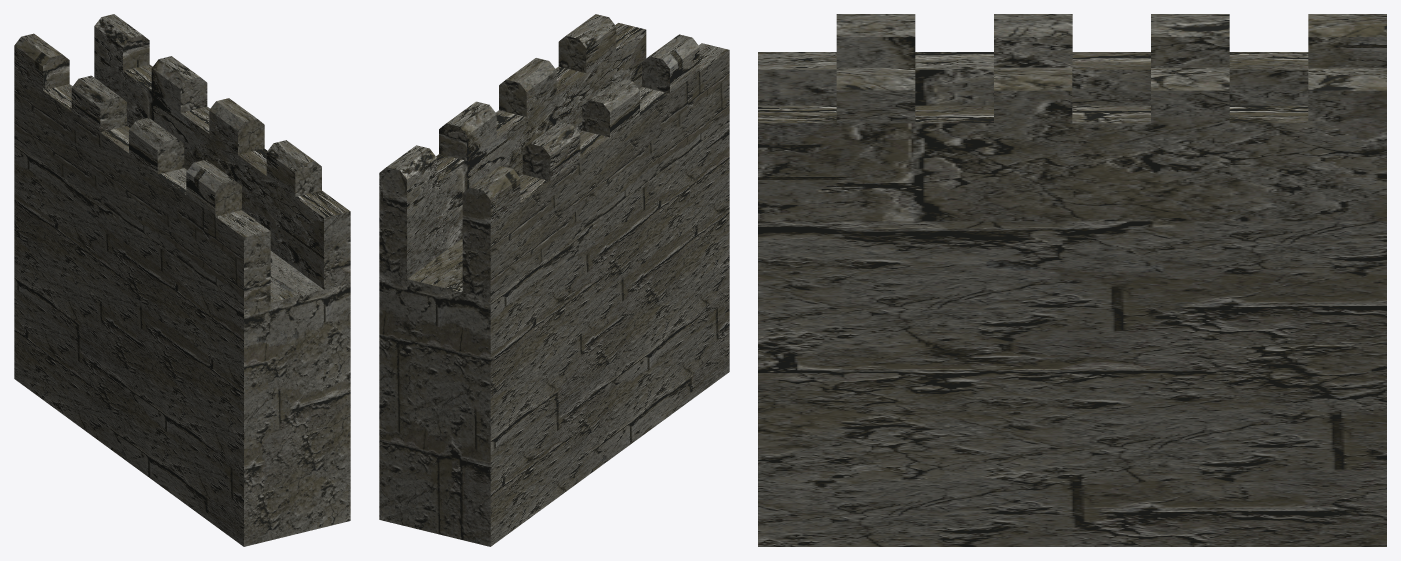
Rendered from CastleWall.fbx.
3 renders of one model, left to right at view 1: azimuth 30°, elevation 25°; view 2: azimuth 150°, elevation 25°; view 3: azimuth 270°, elevation 25°, orthographic. The views are drawn at different scales.
Visible parts, largest first — view 1: Cube.001; view 2: Cube.001; view 3: Cube.001.
Boxes of the visible parts, <box> form: Cube.001: <box>14,14,350,546</box>; Cube.001: <box>379,14,729,546</box>; Cube.001: <box>758,14,1386,546</box>.
Bounding box in the file's own units: 200 × 609 × 745.
